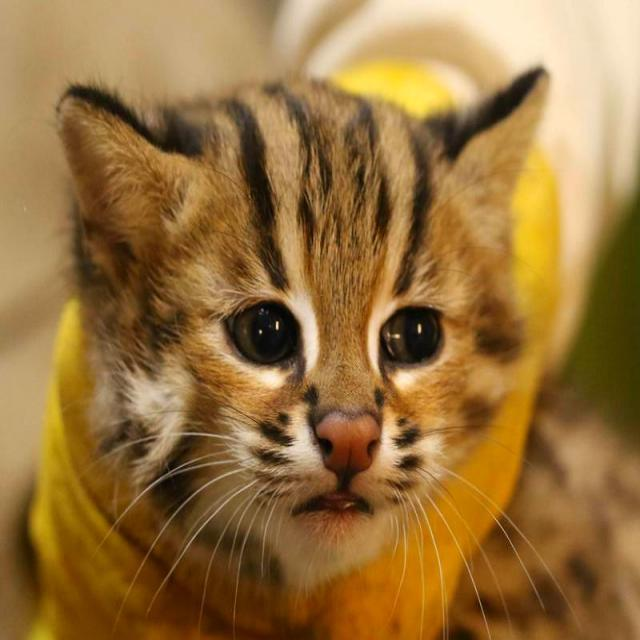leopard: (69, 56, 616, 603)
